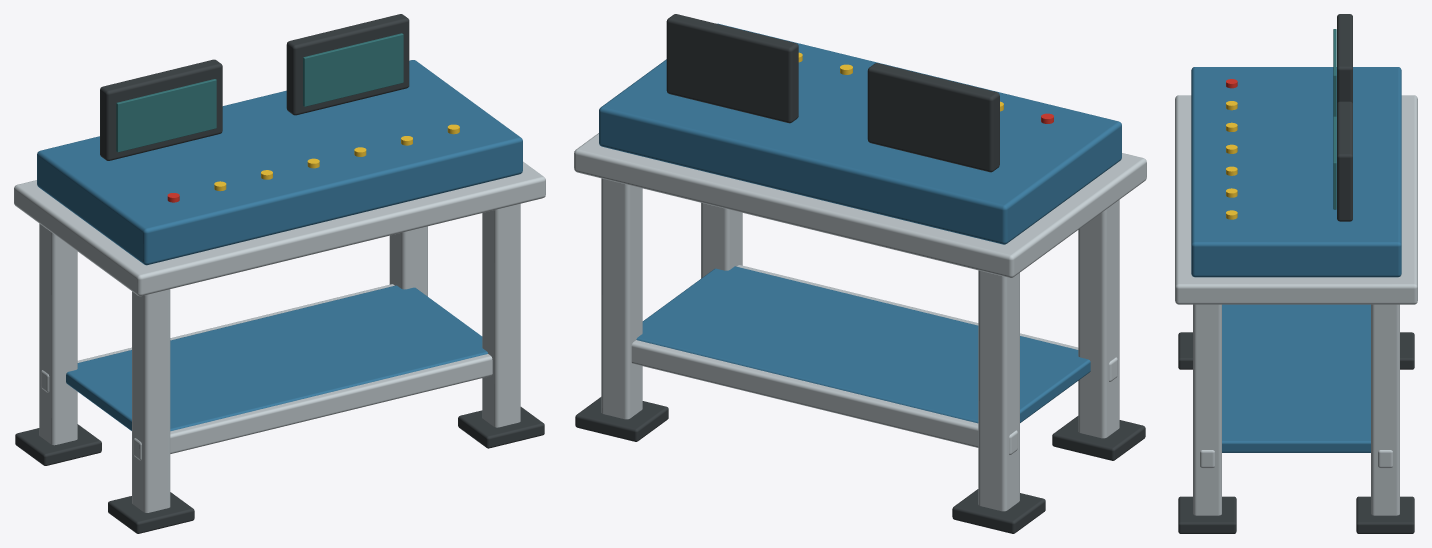
The model's file is recycling-centre-and-material-sorting-operator-control-5c58a881__31142.glb.
3 renders of one model, left to right at view 1: azimuth 30°, elevation 25°; view 2: azimuth 150°, elevation 25°; view 3: azimuth 270°, elevation 25°, orthographic. The views are drawn at different scales.
Parts seen in each view (by area): view 1: operator-control-desk; view 2: operator-control-desk; view 3: operator-control-desk.
Part boxes in pixels (x1,y1,x2,y2): operator-control-desk: [14, 14, 545, 533]; operator-control-desk: [574, 14, 1146, 533]; operator-control-desk: [1175, 14, 1417, 533].
Size of the model in its own units: 1.4 by 1.21 by 0.75.
